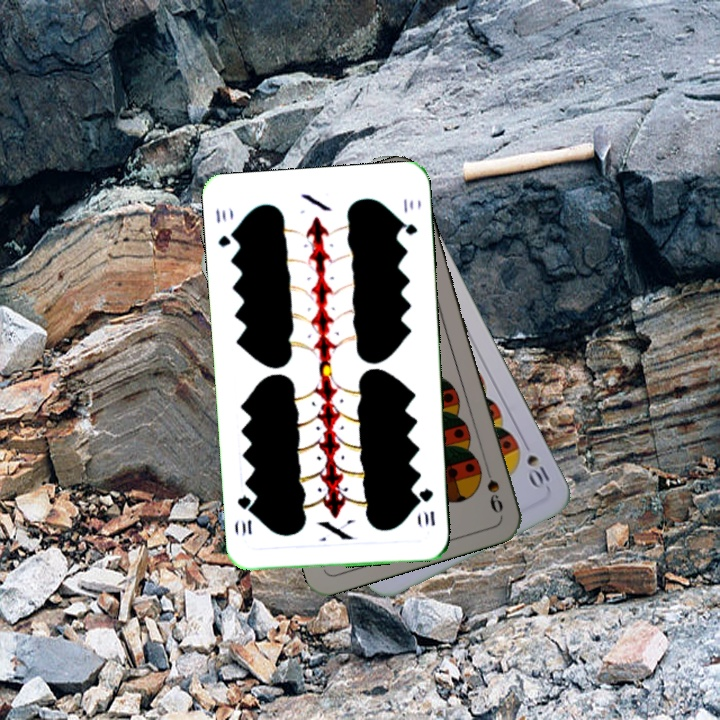G10: (212, 204, 239, 250), (415, 484, 438, 528)
S10: (518, 435, 555, 492)
S9: (479, 458, 506, 516)
